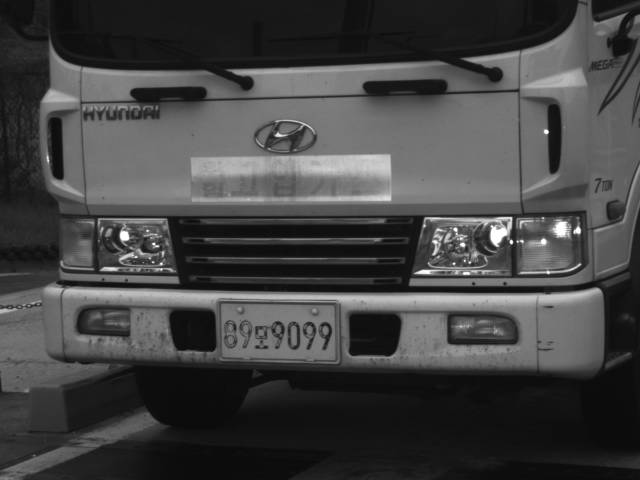car: (37, 1, 638, 427)
plate: (215, 298, 342, 365)
